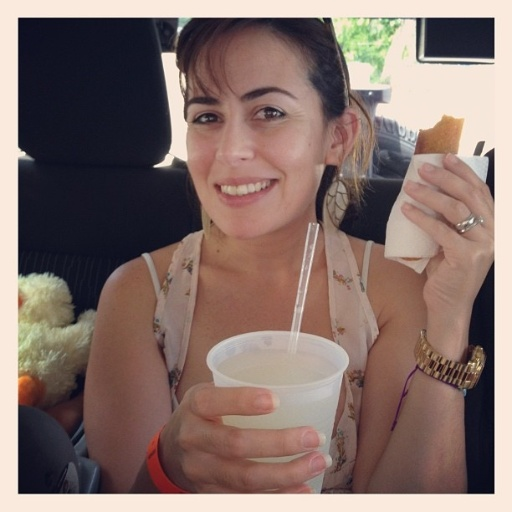hand: (156, 377, 335, 495), (389, 138, 500, 291)
